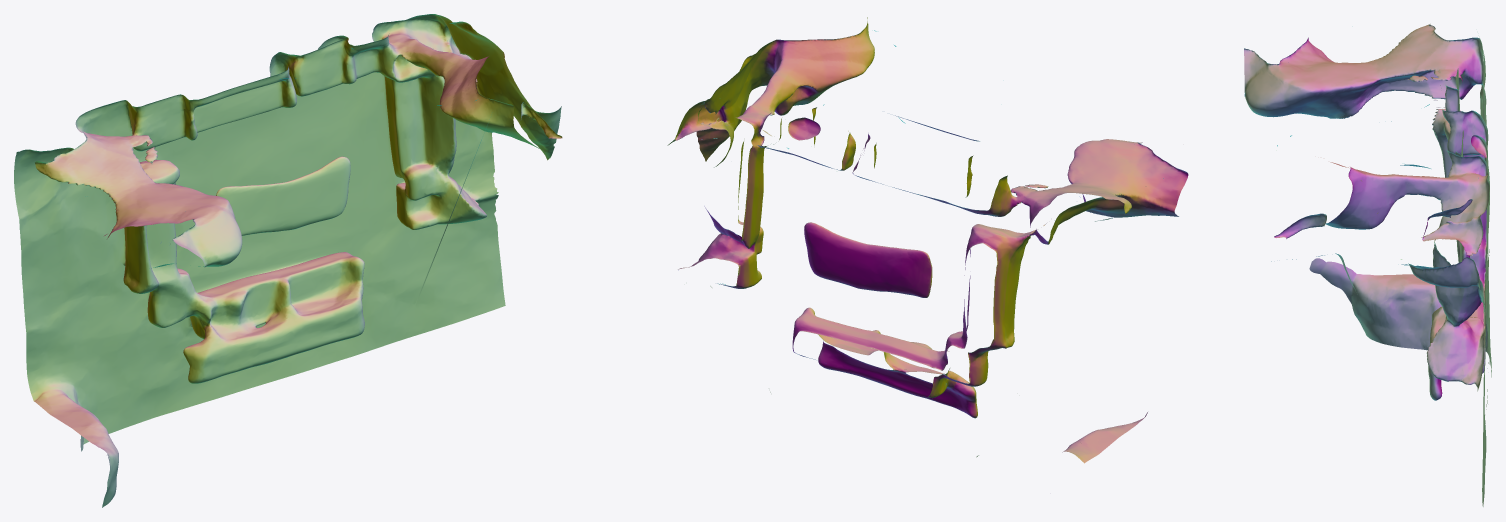
The model's file is isdf.glb.
The picture shows the model from 3 angles, left to right: view 1: azimuth 30°, elevation 25°; view 2: azimuth 150°, elevation 25°; view 3: azimuth 270°, elevation 25°; orthographic projection. The views are drawn at different scales.
Bounding box in the file's own units: 8.95 × 6.45 × 4.18.
